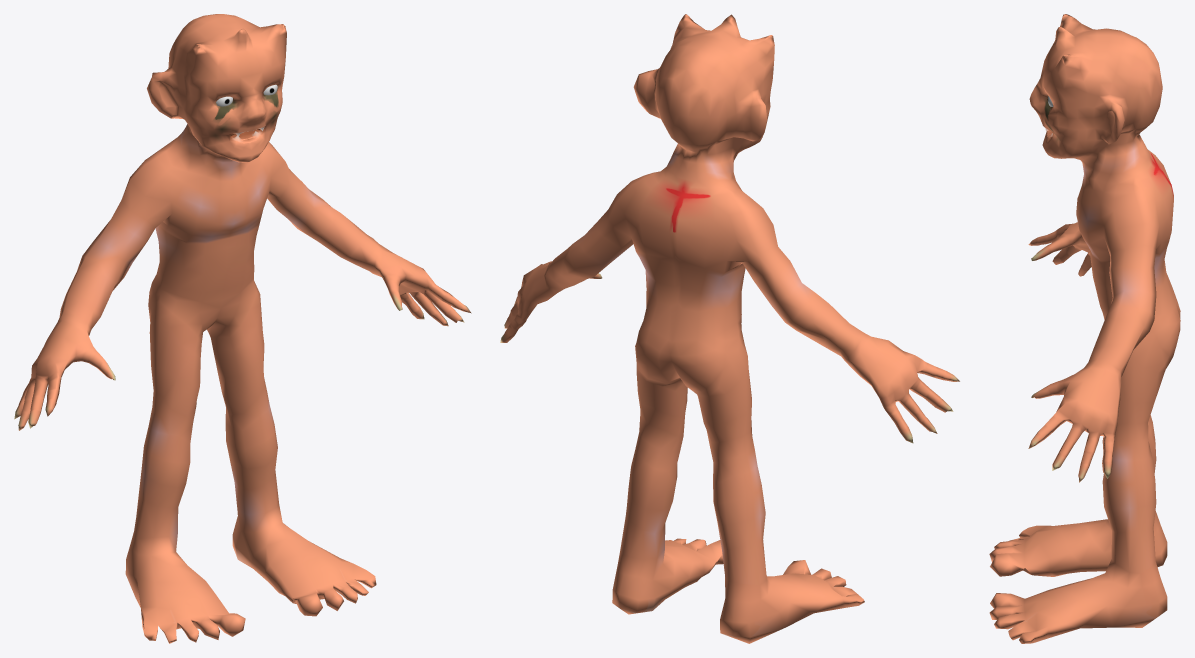
Rendered from triber.fbx.
The picture shows the model from 3 angles, left to right: view 1: azimuth 30°, elevation 25°; view 2: azimuth 150°, elevation 25°; view 3: azimuth 270°, elevation 25°; orthographic projection. The views are drawn at different scales.
Visible parts, largest first — view 1: Triber:Mesh; view 2: Triber:Mesh; view 3: Triber:Mesh.
Part boxes in pixels (x1,y1,x2,y2): Triber:Mesh: (14, 14, 471, 643); Triber:Mesh: (500, 14, 959, 643); Triber:Mesh: (989, 14, 1180, 643).
Bounding box in the file's own units: 3.87 × 4.93 × 1.49.
